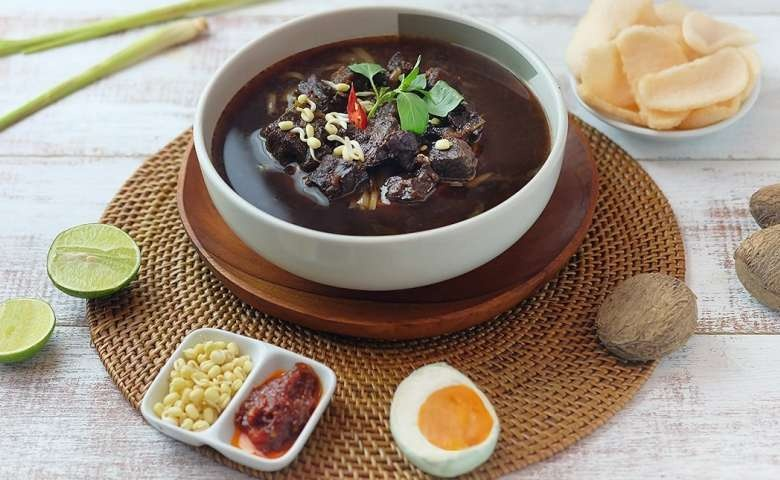rawon: (243, 10, 522, 218)
